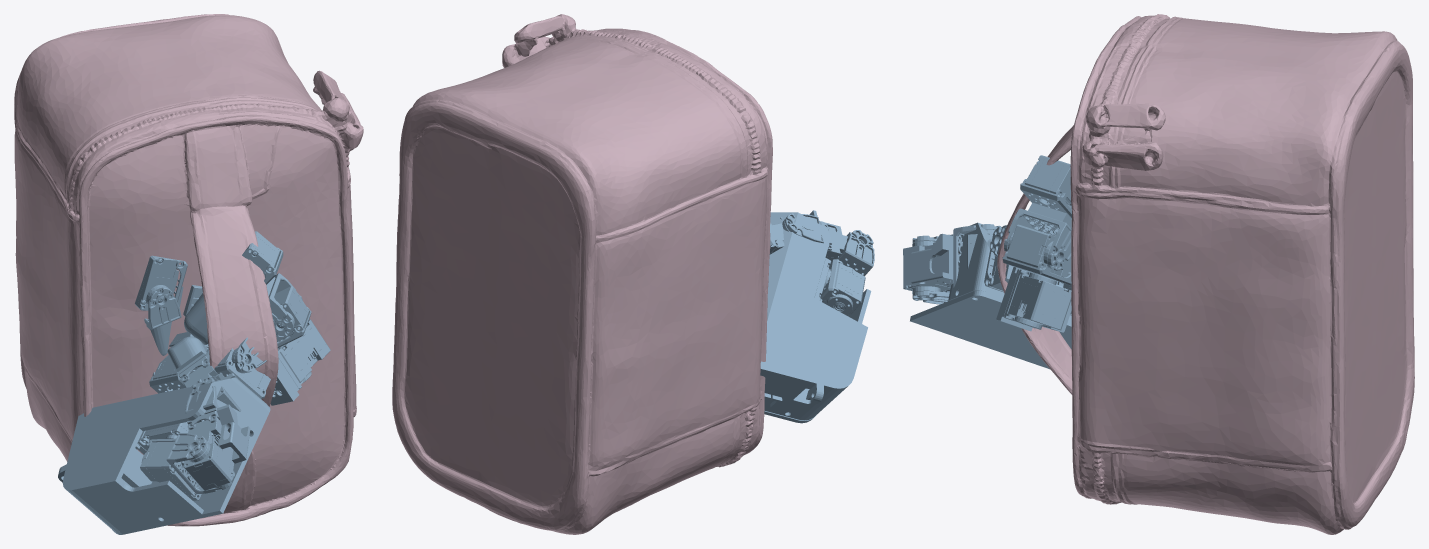
3 renders of one model, left to right at view 1: azimuth 30°, elevation 25°; view 2: azimuth 150°, elevation 25°; view 3: azimuth 270°, elevation 25°, orthographic. The views are drawn at different scales.
Visible parts, largest first — view 1: obj_mesh_grasp_40.obj, world; view 2: obj_mesh_grasp_40.obj, world; view 3: obj_mesh_grasp_40.obj, world.
Boxes of the visible parts, x1=… form: obj_mesh_grasp_40.obj: x1=14, y1=14, x2=363, y2=526; world: x1=58, y1=231, x2=330, y2=534; obj_mesh_grasp_40.obj: x1=392, y1=14, x2=772, y2=534; world: x1=760, y1=210, x2=874, y2=423; obj_mesh_grasp_40.obj: x1=997, y1=14, x2=1414, y2=534; world: x1=903, y1=155, x2=1071, y2=369.
Bounding box in the file's own units: 0.2358 × 0.2706 × 0.2865.
